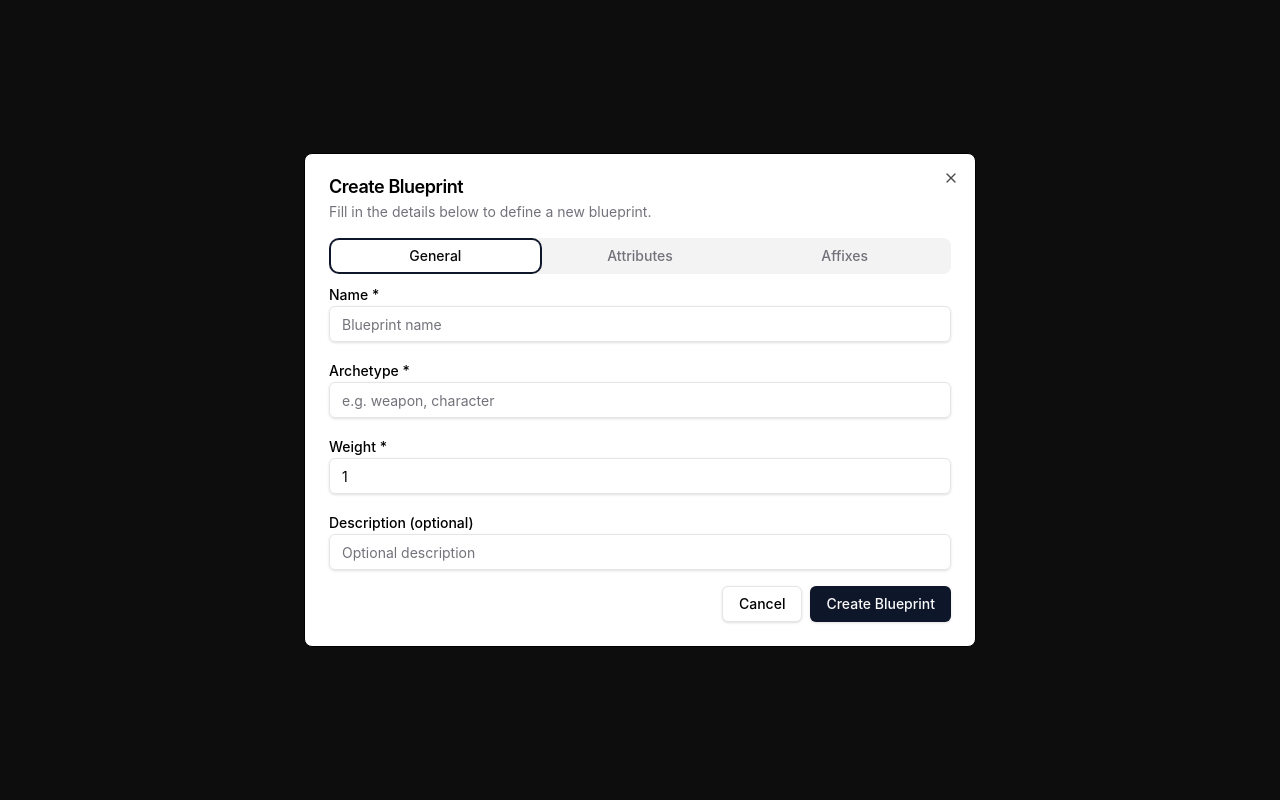
Test: BlueprintFormModal › Tab navigation › shows Affixes tab content
Click the tab "Affixes" at x=845, y=256, box [742,242,947,270]
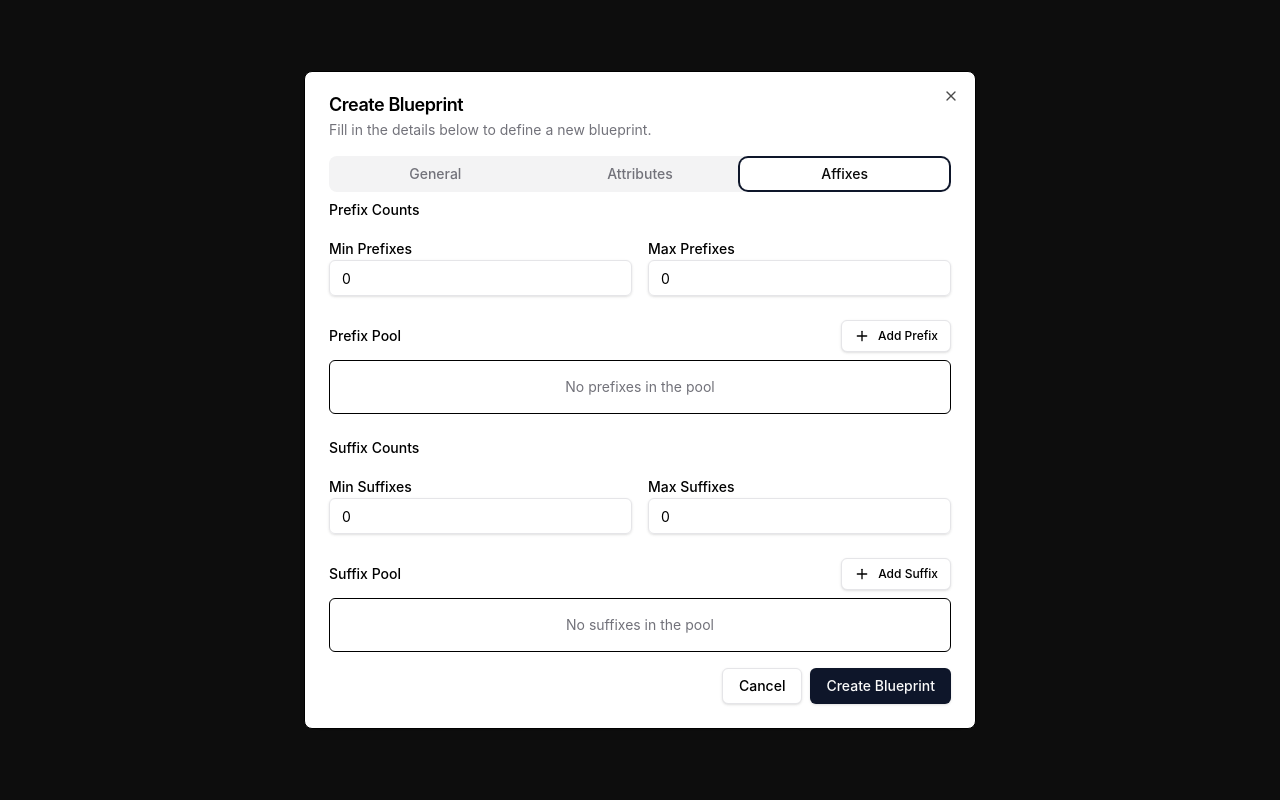
Check: the heading "Prefix Counts" is shown, box [329,201,420,218]
Check: the heading "Suffix Counts" is shown, box [329,439,419,456]
